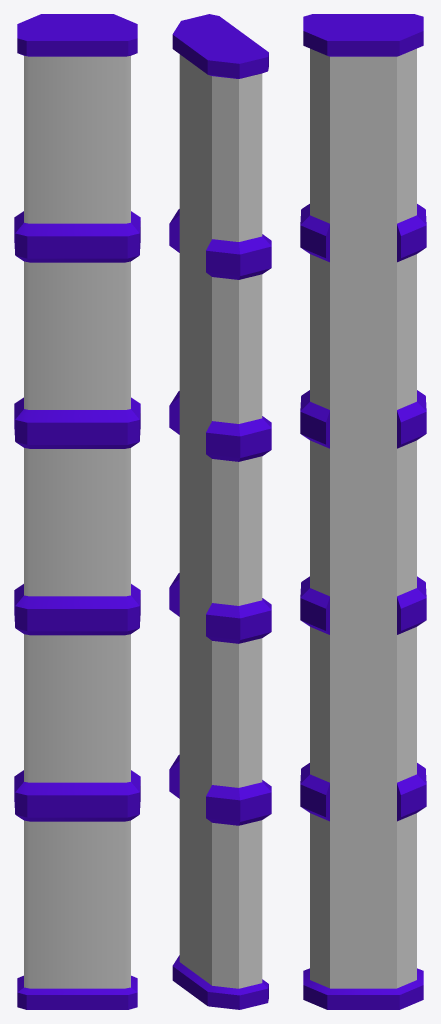
Rendered from BarrierFrame_Straight.FBX.
The picture shows the model from 3 angles, left to right: view 1: azimuth 90°, elevation 25°; view 2: azimuth 210°, elevation 25°; view 3: azimuth 270°, elevation 25°; orthographic projection. The views are drawn at different scales.
Parts seen in each view (by area): view 1: BarrierFrame_Straight; view 2: BarrierFrame_Straight; view 3: BarrierFrame_Straight.
Part boxes in pixels (box(x1,y1,x2,y2)): BarrierFrame_Straight: box(14, 14, 140, 1009); BarrierFrame_Straight: box(169, 14, 271, 1009); BarrierFrame_Straight: box(300, 14, 426, 1009).
Size of the model in its own units: 26.36 by 400 by 47.28.
